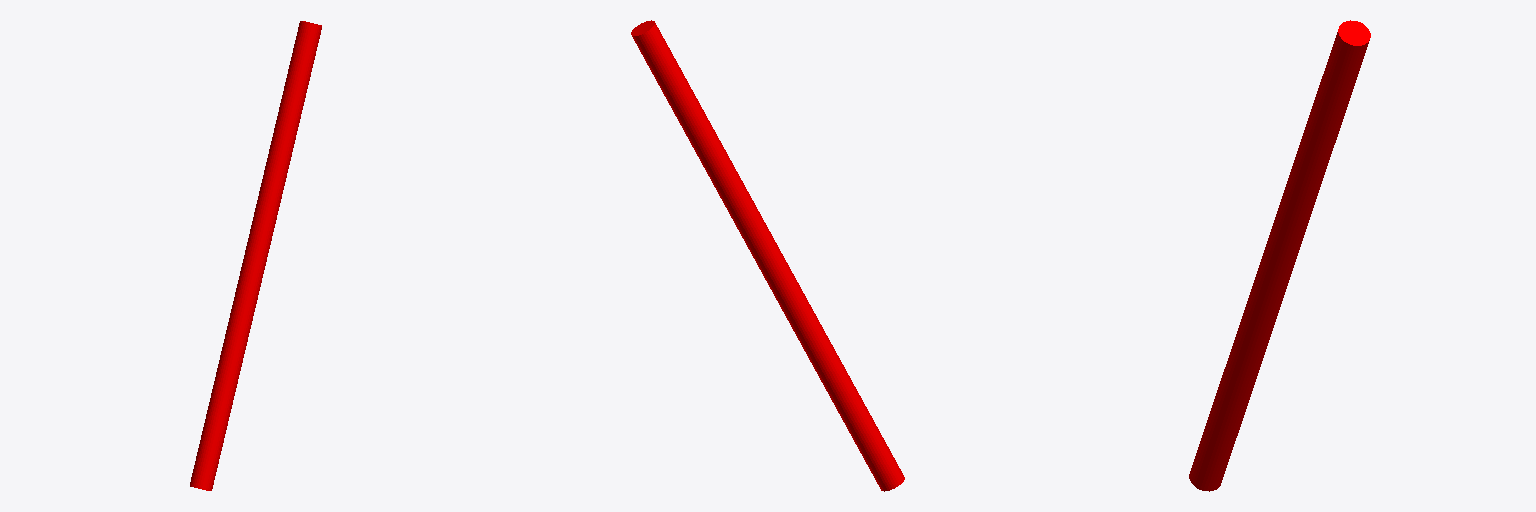
robot.urdf — tree_10.urdf:
<?xml version='1.0' encoding='utf-8'?>
<robot name="tree_10.urdf">
  <link name="branch_0">
    <inertial>
      <origin xyz="0.0 0.0 0.0" rpy="0.0 -0.0 0.0" />
      <mass value="1.0" />
      <inertia ixx="1.0" ixy="0.0" ixz="0.0" iyy="1.0" iyz="0.0" izz="1.0" />
    </inertial>
    <visual name="branch_0_visual">
      <geometry>
        <cylinder radius="0.06959517276692666" length="2.8787618557428076" />
      </geometry>
      <material name="semantic_material" />
      <origin xyz="0.5636131450765783 0.3106241663099079 1.2875054584432277" rpy="0.0 0.463517070056719 0.5037104323536953" />
    </visual>
    <collision name="branch_0_collision">
      <geometry>
        <cylinder radius="0.06959517276692666" length="2.8787618557428076" />
      </geometry>
      <origin xyz="0.5636131450765783 0.3106241663099079 1.2875054584432277" rpy="0.0 0.463517070056719 0.5037104323536953" />
    </collision>
  </link>
  <material name="semantic_material">
    <color rgba="1. 0. 0. 1." />
  </material>
</robot>

--- Render facts (derived) ---
Views: 3 orthographic renders of the robot side by side, from view 1: azimuth 30°, elevation 25°; view 2: azimuth 150°, elevation 25°; view 3: azimuth 270°, elevation 25°.
Model tree_10.urdf with 1 links and 0 joints (none), rooted at branch_0, posed all joints at 0.
Visible links, largest first — view 1: branch_0; view 2: branch_0; view 3: branch_0.
Boxes of the visible links, box(x1,y1,x2,y2) form: branch_0: box(190, 21, 321, 490); branch_0: box(631, 20, 904, 491); branch_0: box(1189, 20, 1370, 491).
Bounding box of the posed robot: 1.26 × 0.7569 × 2.64 m (x, y, z).
Geometry: primitives only (box / cylinder / sphere), no mesh files.